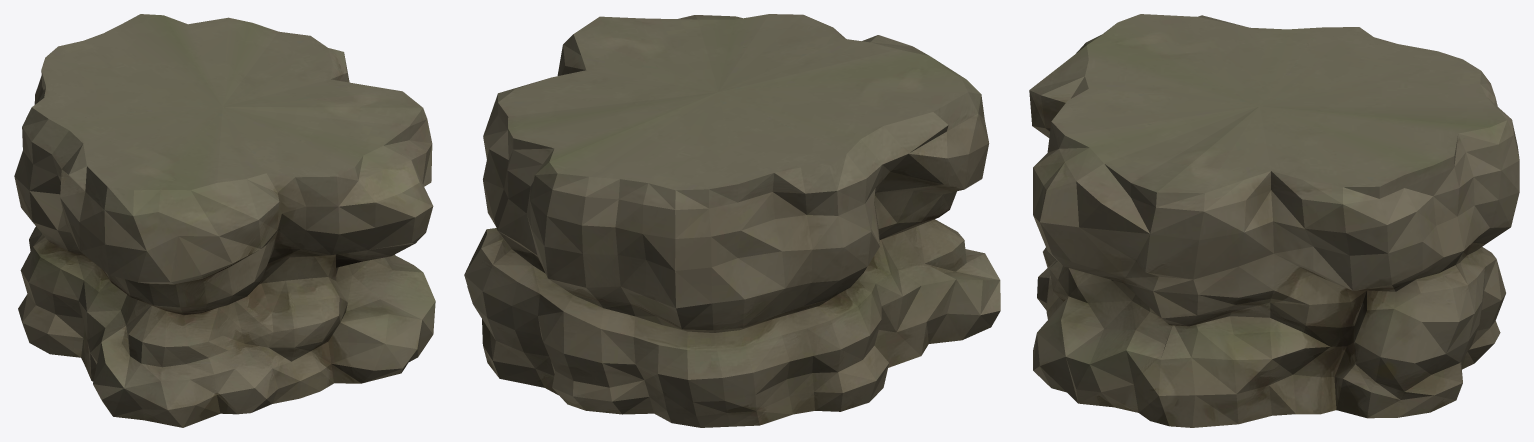
Rendered from bloc_rocheux_socle.glb.
3 views of the same model, side by side, from view 1: azimuth 30°, elevation 25°; view 2: azimuth 150°, elevation 25°; view 3: azimuth 270°, elevation 25° (orthographic). The views are drawn at different scales.
Visible parts, largest first — view 1: bloc_rocheux_socle; view 2: bloc_rocheux_socle; view 3: bloc_rocheux_socle.
Boxes of the visible parts, box(x1,y1,x2,y2) form: bloc_rocheux_socle: box(14, 14, 435, 427); bloc_rocheux_socle: box(464, 14, 1000, 427); bloc_rocheux_socle: box(1029, 14, 1519, 427).
Size of the model in its own units: 1.86 by 1.11 by 2.05.
1 material, 1 textured.
